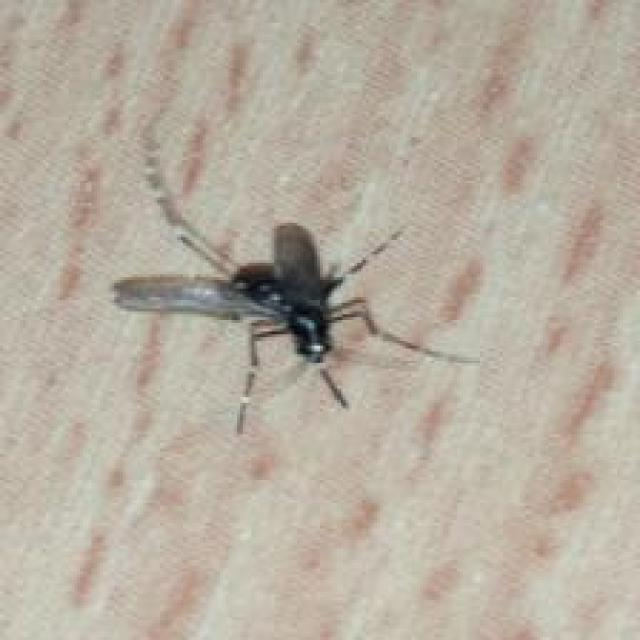Aedes albopictus: (110, 144, 481, 436)
